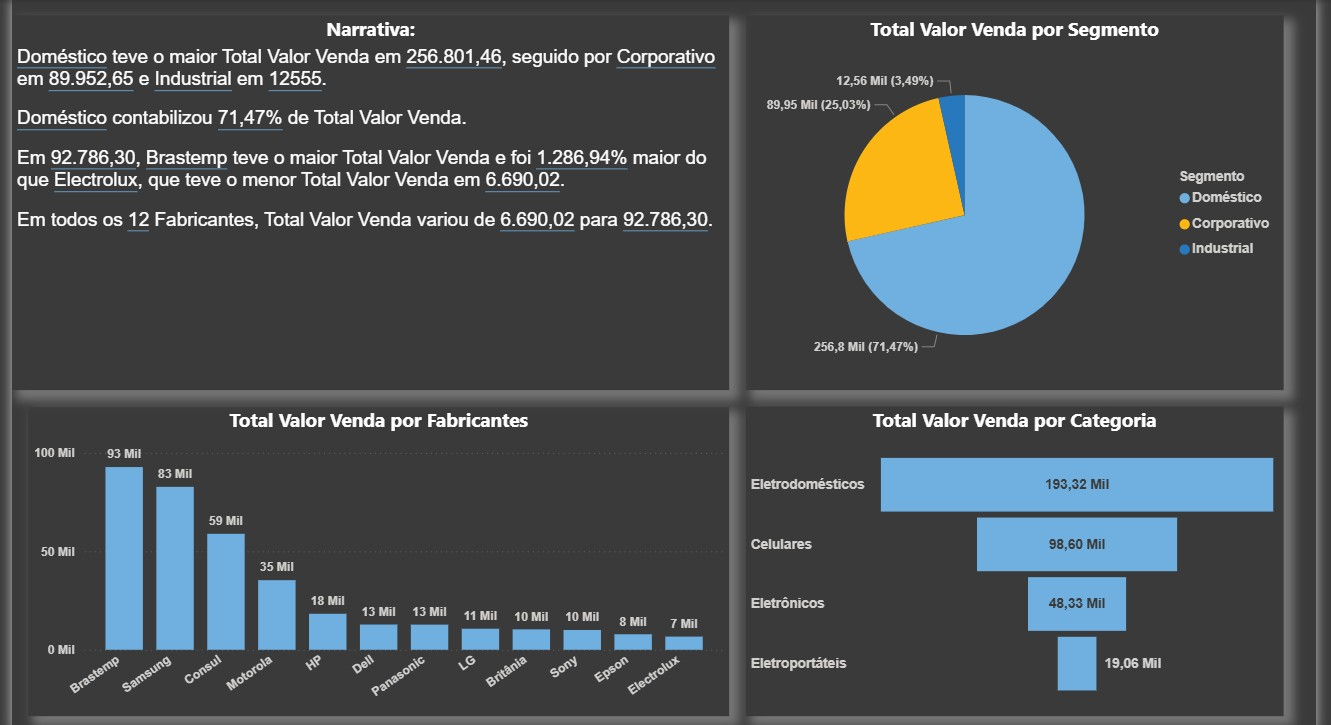

The dashboard page shown, as its layout file describes it:
{"tool":"powerbi","page":{"name":"Narrativa Inteligente","canvas":[1280,720],"ordinal":1},"visuals":[{"type":"pieChart","fields":{"Category":["Vendas.Segmento"],"Y":["Sum(Vendas.ValorVenda)"]},"box":[720,16,528,368],"z":0},{"type":"clusteredColumnChart","fields":{"Y":["Sum(Vendas.ValorVenda)"],"Category":["Vendas.Fabricante"]},"box":[16,400,688,304],"z":1000},{"type":"funnel","fields":{"Category":["Vendas.Categoria"],"Y":["Sum(Vendas.ValorVenda)"]},"box":[720,400,528,304],"z":2000},{"type":"textbox","title":"Narrativa:","box":[0,16,704,368],"z":3000}]}

Visuals, with their boxes on the page's 1280x720 design canvas (x1, y1, x2, y2). These are canvas units, not pixel positions in the 1331x725 screenshot, which may show the page scaled, cropped or inside an application window:
pieChart - Vendas.Segmento x Sum(Vendas.ValorVenda): crop(720, 16, 1248, 384)
clusteredColumnChart - Sum(Vendas.ValorVenda) x Vendas.Fabricante: crop(16, 400, 704, 704)
funnel - Vendas.Categoria x Sum(Vendas.ValorVenda): crop(720, 400, 1248, 704)
"Narrativa:" textbox: crop(0, 16, 704, 384)
